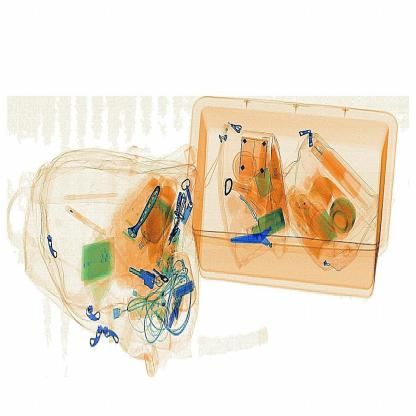gun: (225, 222, 302, 267)
